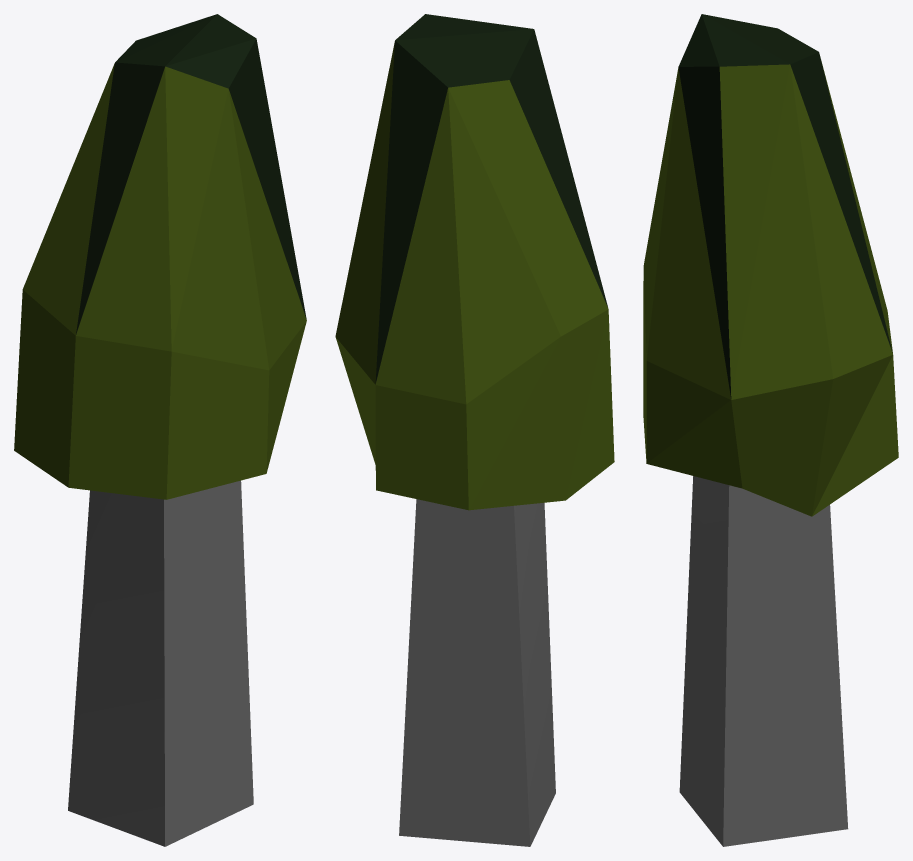
File: Mushroom_Small_3.fbx
The picture shows the model from 3 angles, left to right: view 1: azimuth 30°, elevation 25°; view 2: azimuth 150°, elevation 25°; view 3: azimuth 270°, elevation 25°; orthographic projection.
Parts seen in each view (by area): view 1: Mushroom_Small_3; view 2: Mushroom_Small_3; view 3: Mushroom_Small_3.
Boxes of the visible parts, x1,y1,x2,y2 form: Mushroom_Small_3: (14, 14, 306, 846); Mushroom_Small_3: (335, 14, 614, 846); Mushroom_Small_3: (643, 14, 898, 846).
Bounding box in the file's own units: 11.5 × 34.16 × 10.1.
